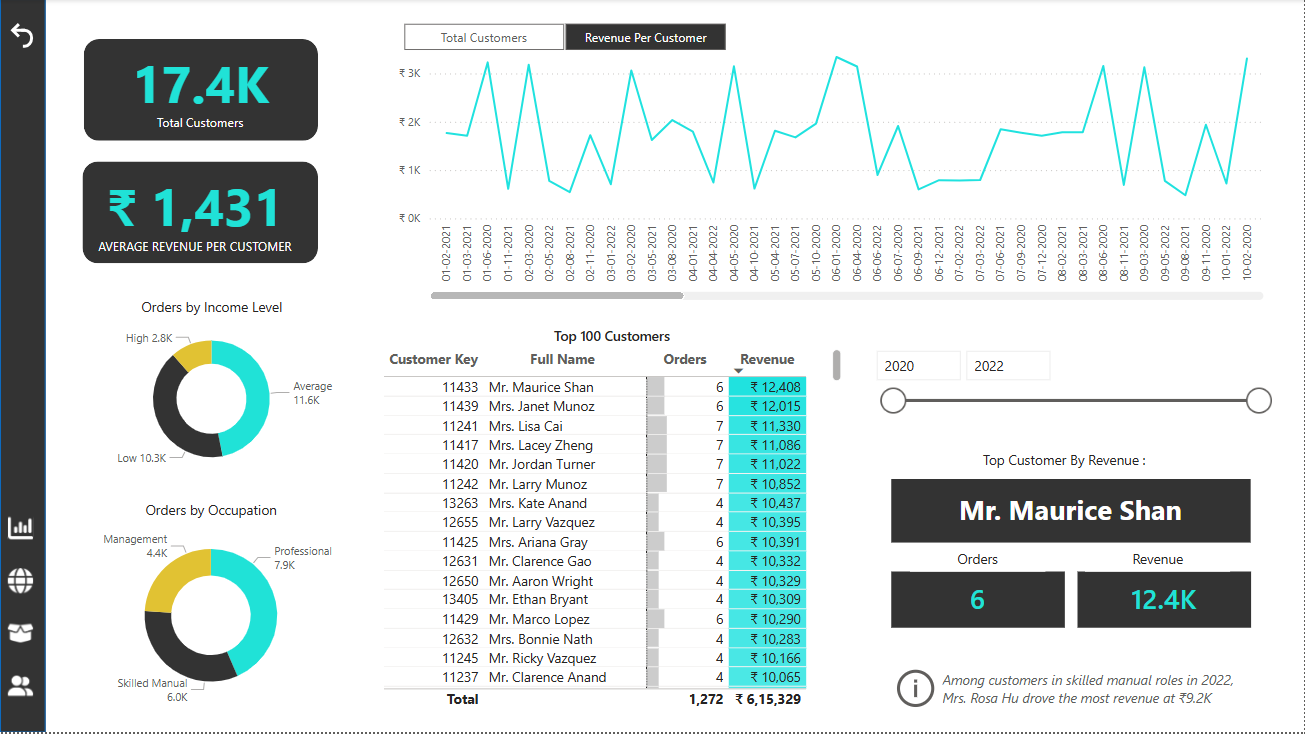

The dashboard page shown, as its layout file describes it:
{"tool":"powerbi","page":{"name":"Customer Detail","canvas":[1280,720],"ordinal":3},"visuals":[{"type":"shape","box":[0,0,45,720],"z":0},{"type":"shape","box":[81.2,160,231.2,100],"z":1000},{"type":"actionButton","box":[3.7,503.1,36.8,33.1],"z":1000,"group":"g1"},{"type":"shape","box":[82.5,38.8,230,100],"z":2000},{"type":"actionButton","box":[3.7,554.6,36.8,33.1],"z":2000,"group":"g1"},{"type":"card","title":"Return Rate","fields":{"Values":["Measure Table.Average Revenue Per Customer"]},"box":[82.5,123.8,218.8,172.5],"z":3000},{"type":"actionButton","box":[3.7,657.7,36.8,33.1],"z":3000,"group":"g1"},{"type":"card","title":"Orders","fields":{"Values":["Measure Table.Total Customers"]},"box":[72.5,2.5,248.8,172.5],"z":4000},{"type":"actionButton","box":[3.7,606.2,36.8,33.1],"z":4000,"group":"g1"},{"type":"lineChart","fields":{"Y":["Measure Table.Average Revenue Per Customer"],"Category":["Calendar Lookup.Date Hierarchy.Start of Year","Calendar Lookup.Date Hierarchy.Start of Month","Calendar Lookup.Date Hierarchy.Start of Week","Calendar Lookup.Date Hierarchy.Date"]},"box":[386.5,35.6,858.9,265],"z":5000},{"type":"donutChart","title":"Orders by Income Level","fields":{"Y":["Measure Table.Total Orders"],"Category":["Customer Lookup.Income Level"]},"box":[83.5,293.6,248.8,181.2],"z":6000},{"type":"donutChart","title":"Orders by Occupation","fields":{"Y":["Measure Table.Total Orders"],"Category":["Customer Lookup.Occupation"]},"box":[82.2,492.3,250,208.8],"z":7000},{"type":"tableEx","title":"Top 100 Customers","fields":{"Values":["Customer Lookup.CustomerKey","Customer Lookup.Customer Full Name (CC)","Measure Table.Total Orders","Measure Table.Total Revenue"]},"box":[370.6,321.5,460.1,379.1],"z":8000},{"type":"card","fields":{"Values":["Customer Lookup.Full Name (Customer Detail)"]},"box":[874.6,471.1,352.5,62.5],"z":9000},{"type":"card","fields":{"Values":["Measure Table.Total Revenue (Customer Detail)"]},"box":[1057.1,562.3,170,55],"z":10000},{"type":"card","fields":{"Values":["Measure Table.Total Order (Customer Detail)"]},"box":[874.6,562.3,170,55],"z":11000},{"type":"textbox","box":[953.4,438.6,182.5,27.5],"z":12000},{"type":"textbox","box":[893.4,534.8,132.5,27.5],"z":13000},{"type":"textbox","box":[1064.6,534.8,142.5,27.5],"z":14000},{"type":"slicer","fields":{"Values":["Calendar Lookup.Year"]},"box":[848.1,334.5,408.6,90.8],"z":15000},{"type":"actionButton","box":[874.9,652.3,352.1,47.9],"z":16000},{"type":"actionButton","box":[4.9,17.2,34.4,36.8],"z":17000},{"type":"group","id":"g1","title":"Navigation buttons","box":[3.7,503.1,36.8,187.7],"z":18000},{"type":"slicer","fields":{"Values":["Customer Metrics.Customer Metrics"]},"box":[370.6,17.2,365.6,38],"z":18501}]}

Visuals, with their boxes on the page's 1280x720 design canvas (x1, y1, x2, y2). These are canvas units, not pixel positions in the 1305x734 screenshot, which may show the page scaled, cropped or inside an application window:
shape: [x1=0, y1=0, x2=45, y2=720]
shape: [x1=81, y1=160, x2=312, y2=260]
actionButton: [x1=4, y1=503, x2=40, y2=536]
shape: [x1=82, y1=39, x2=312, y2=139]
actionButton: [x1=4, y1=555, x2=40, y2=588]
"Return Rate" card: [x1=82, y1=124, x2=301, y2=296]
actionButton: [x1=4, y1=658, x2=40, y2=691]
"Orders" card: [x1=72, y1=2, x2=321, y2=175]
actionButton: [x1=4, y1=606, x2=40, y2=639]
lineChart - Measure Table.Average Revenue Per Customer x Calendar Lookup.Date Hierarchy.Start of Year: [x1=386, y1=36, x2=1245, y2=301]
"Orders by Income Level" donutChart: [x1=84, y1=294, x2=332, y2=475]
"Orders by Occupation" donutChart: [x1=82, y1=492, x2=332, y2=701]
"Top 100 Customers" tableEx: [x1=371, y1=322, x2=831, y2=701]
card - Customer Lookup.Full Name (Customer Detail): [x1=875, y1=471, x2=1227, y2=534]
card - Measure Table.Total Revenue (Customer Detail): [x1=1057, y1=562, x2=1227, y2=617]
card - Measure Table.Total Order (Customer Detail): [x1=875, y1=562, x2=1045, y2=617]
textbox: [x1=953, y1=439, x2=1136, y2=466]
textbox: [x1=893, y1=535, x2=1026, y2=562]
textbox: [x1=1065, y1=535, x2=1207, y2=562]
slicer - Calendar Lookup.Year: [x1=848, y1=334, x2=1257, y2=425]
actionButton: [x1=875, y1=652, x2=1227, y2=700]
actionButton: [x1=5, y1=17, x2=39, y2=54]
"Navigation buttons" group: [x1=4, y1=503, x2=40, y2=691]
slicer - Customer Metrics.Customer Metrics: [x1=371, y1=17, x2=736, y2=55]
